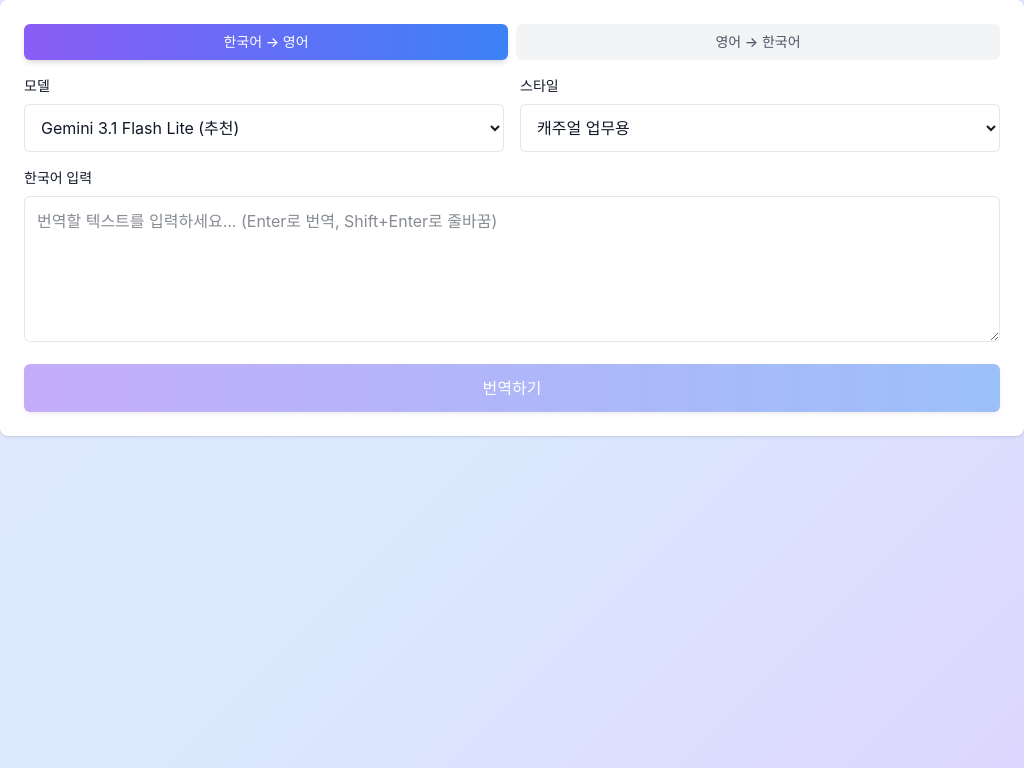
HomePage reading mode (F11) › translates English → Korean via /api/read and shows the Korean result
Click the button "영어 → 한국어" at (758, 42), box [516,24,1000,60]
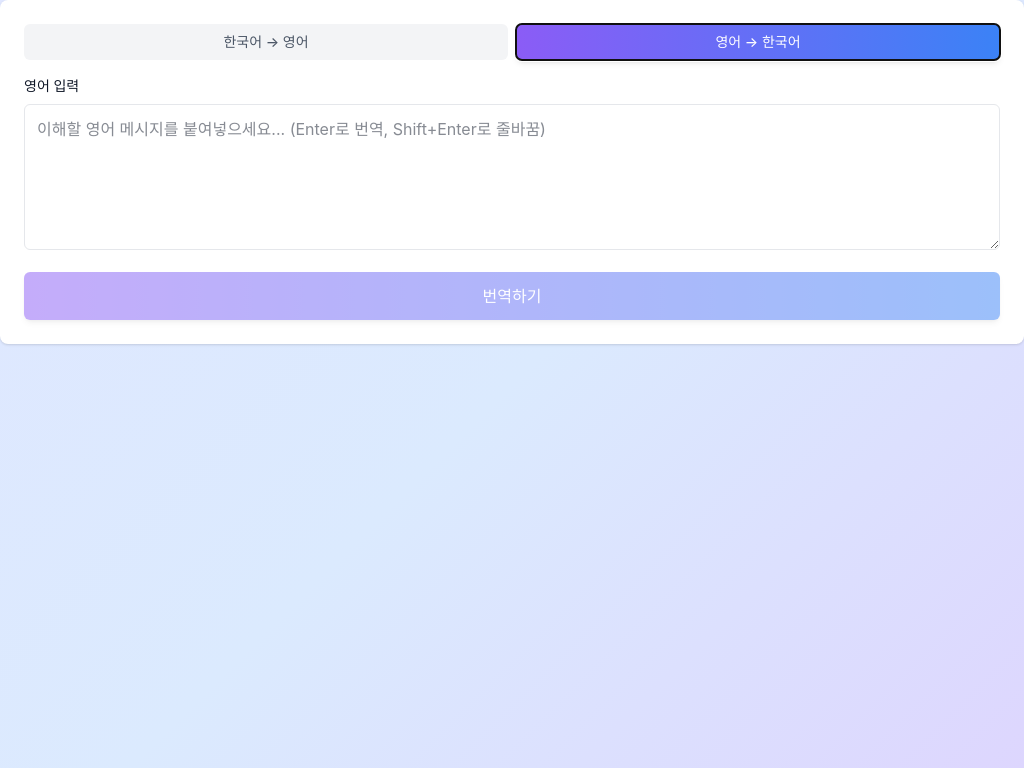
Type "Can you take a look?" into the text box at (512, 177), box [24,104,1000,250]
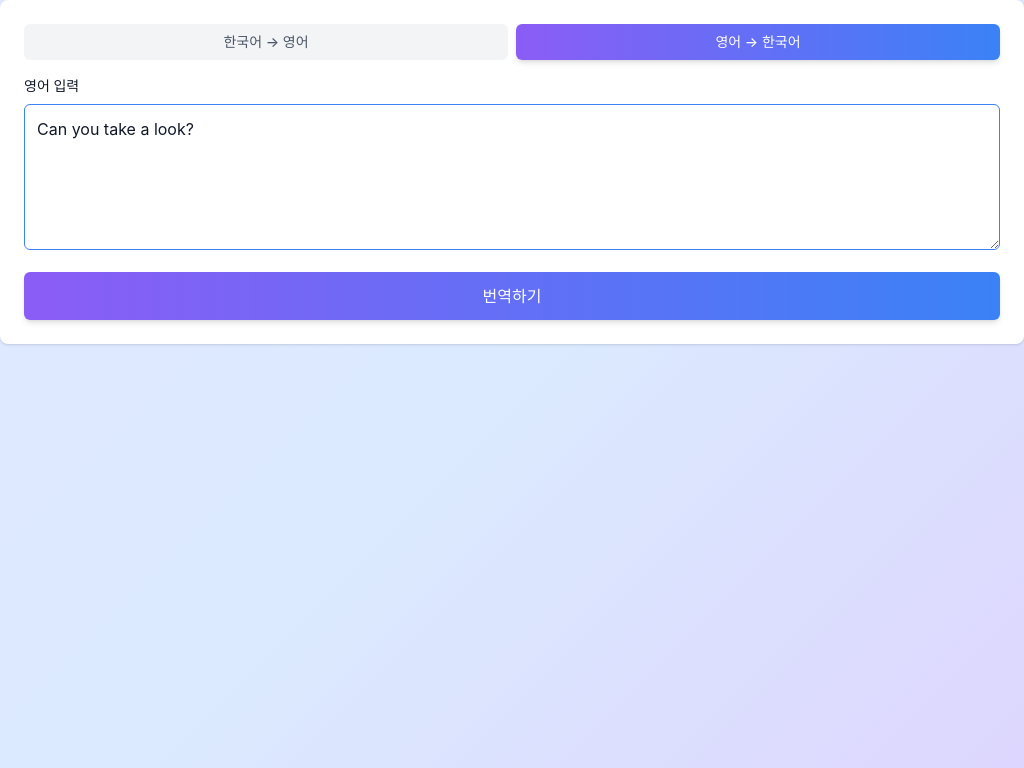
Press Enter
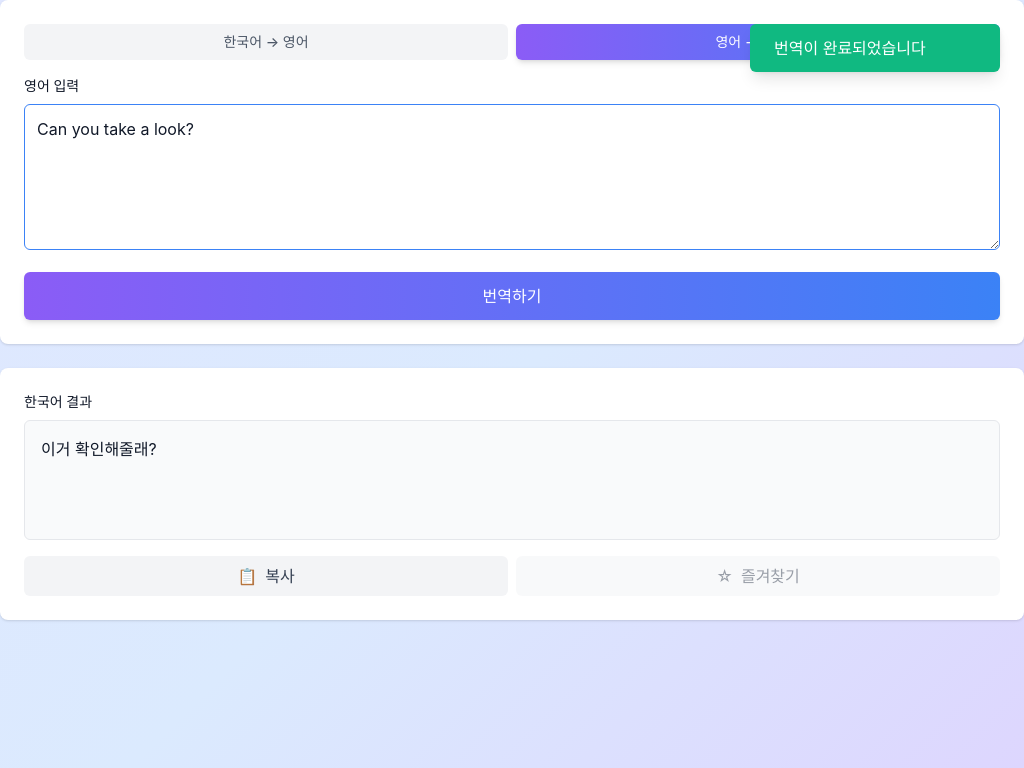
Result: the text "이거 확인해줄래?" is shown at [24,420,1000,540]
Result: the text "한국어 결과" is shown at [24,393,92,410]
